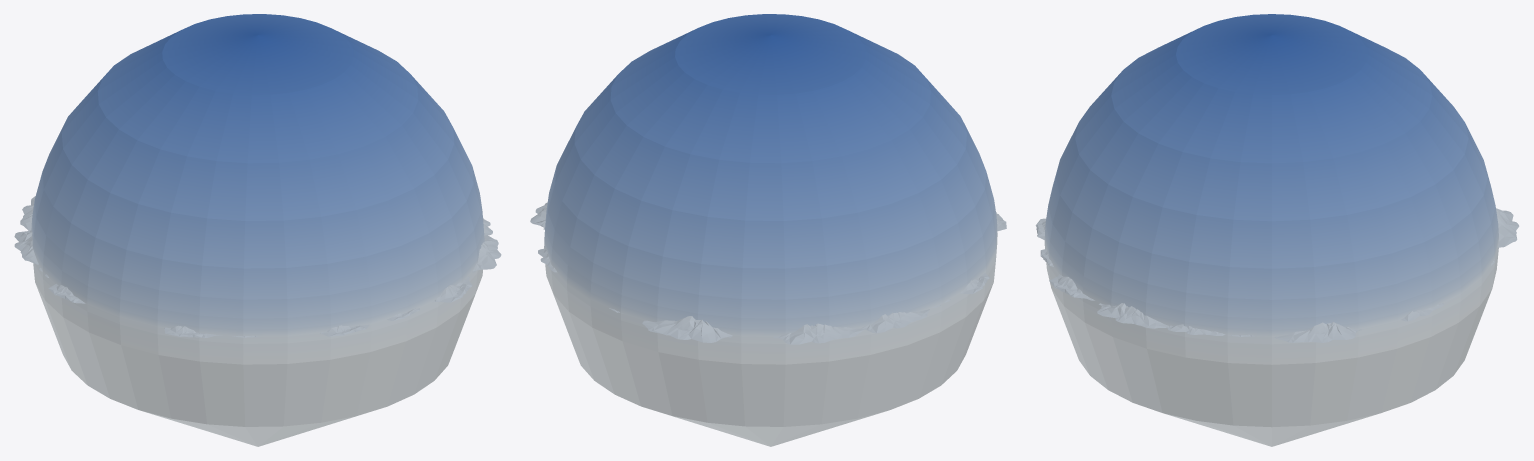
File: sky-alpine.glb
3 renders of one model, left to right at view 1: azimuth 30°, elevation 25°; view 2: azimuth 150°, elevation 25°; view 3: azimuth 270°, elevation 25°, orthographic.
Parts seen in each view (by area): view 1: dome, ring; view 2: dome, ring; view 3: dome, ring.
Part boxes in pixels (bbox=[...]): dome: bbox=[31, 14, 484, 446]; ring: bbox=[14, 196, 501, 337]; dome: bbox=[544, 14, 997, 446]; ring: bbox=[530, 202, 1006, 344]; dome: bbox=[1044, 14, 1498, 446]; ring: bbox=[1035, 208, 1519, 342].
Size of the model in its own units: 19050 by 18000 by 19178.
